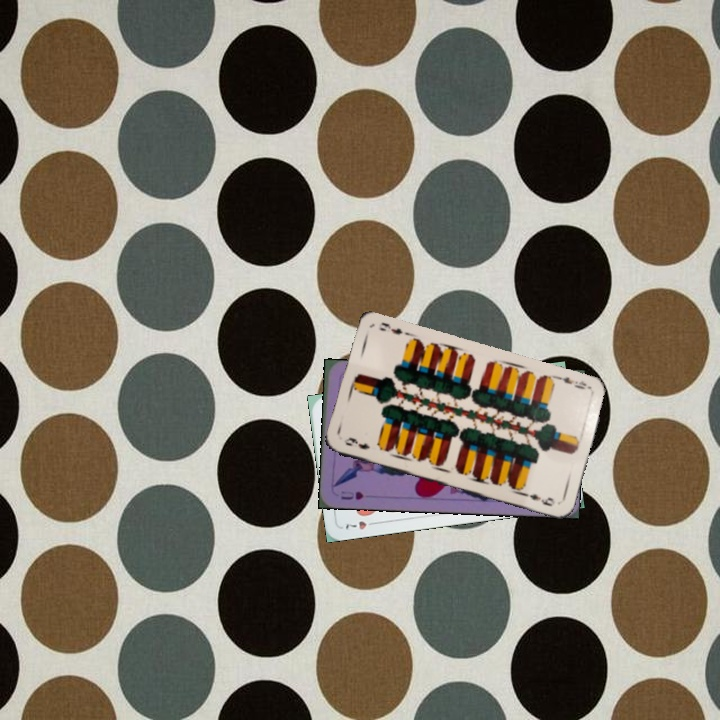E9: (553, 372, 593, 392), (340, 433, 372, 452)
H7: (341, 517, 380, 533)
HU: (337, 487, 366, 502)
